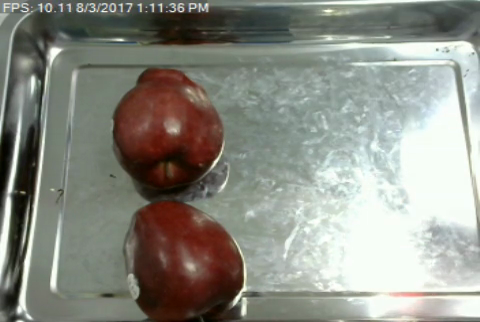Apple: (120, 199, 249, 322), (105, 67, 230, 191)
